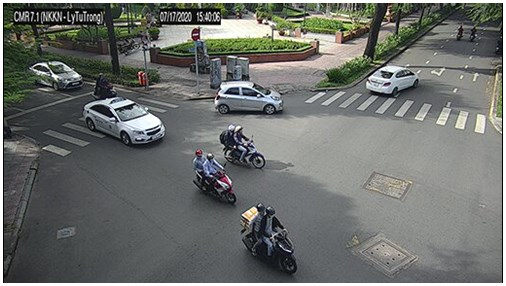xe_hoi: (84, 97, 166, 146), (215, 80, 284, 114), (365, 65, 420, 95), (28, 60, 84, 89)
xe_may: (239, 202, 298, 274), (192, 149, 237, 203), (218, 124, 265, 170), (91, 72, 118, 99), (118, 38, 140, 53), (469, 26, 478, 42), (456, 25, 463, 39)
